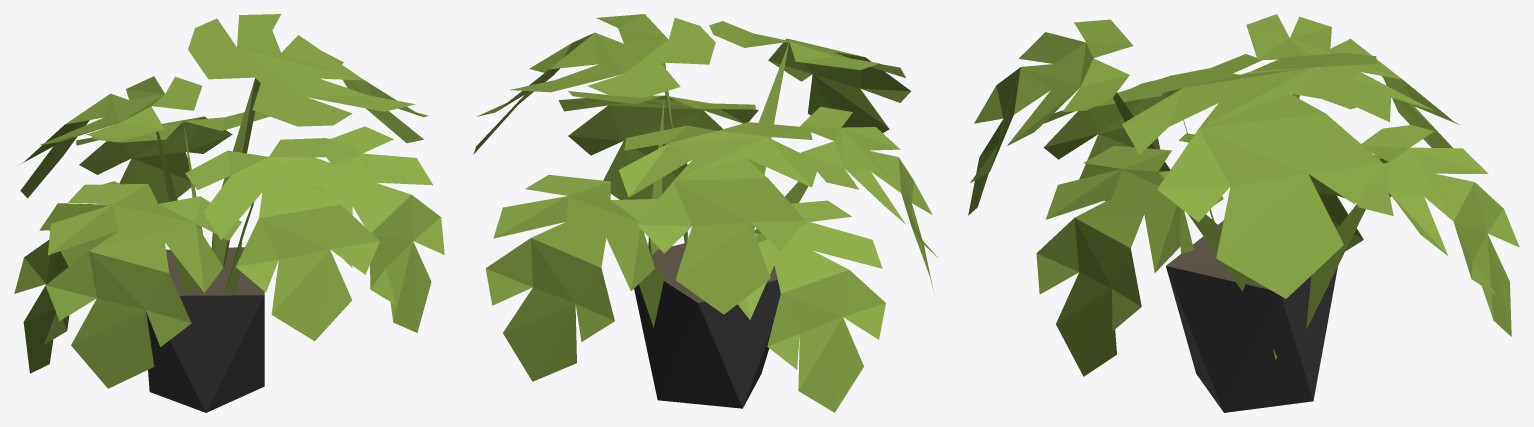
The model's file is houseplant_bush_lite.fbx.
3 renders of one model, left to right at view 1: azimuth 30°, elevation 25°; view 2: azimuth 150°, elevation 25°; view 3: azimuth 270°, elevation 25°, orthographic. The views are drawn at different scales.
Visible parts, largest first — view 1: houseplant_bush_lite; view 2: houseplant_bush_lite; view 3: houseplant_bush_lite.
Part boxes in pixels (x1,y1,x2,y2): houseplant_bush_lite: [14, 14, 444, 412]; houseplant_bush_lite: [473, 14, 937, 412]; houseplant_bush_lite: [968, 14, 1519, 412].
Size of the model in its own units: 1.19 by 0.9014 by 1.25.
